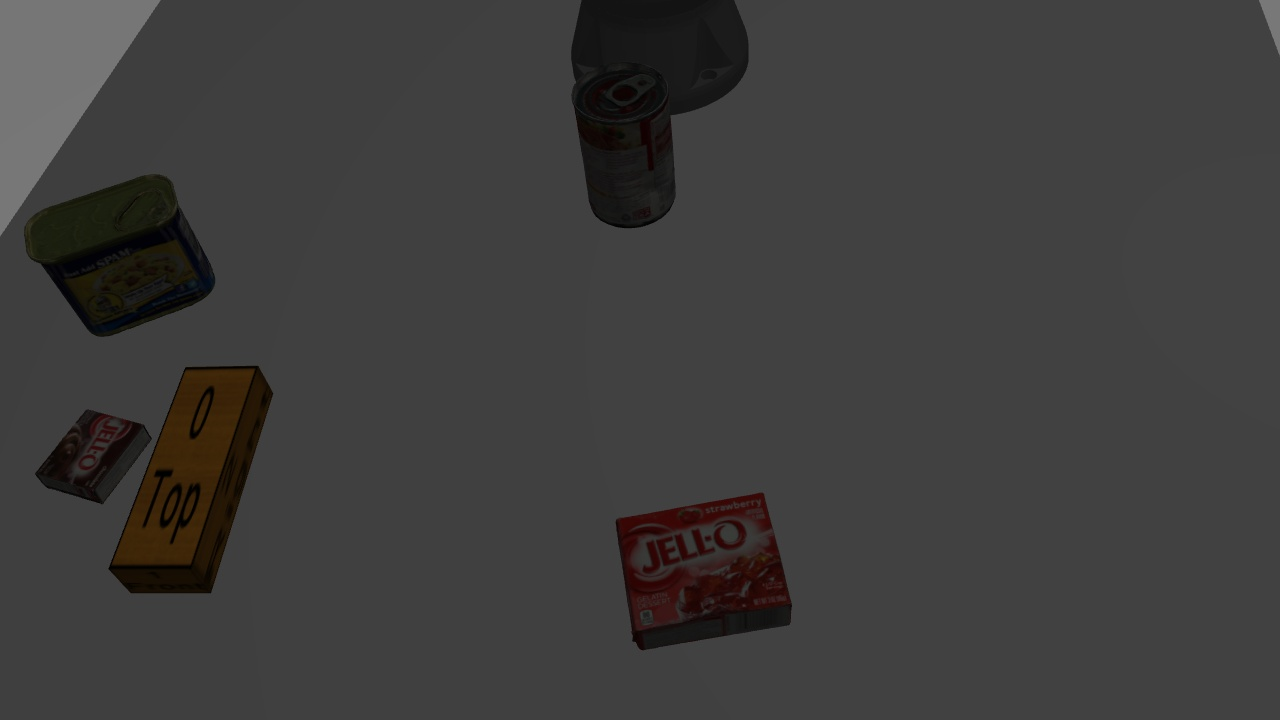gelatin_box: (612, 507, 793, 610)
jenga: (105, 365, 275, 597)
potted_meat_can: (25, 170, 225, 339)
pudding_box: (31, 403, 154, 507)
tomato_soup_can: (566, 58, 678, 232)
